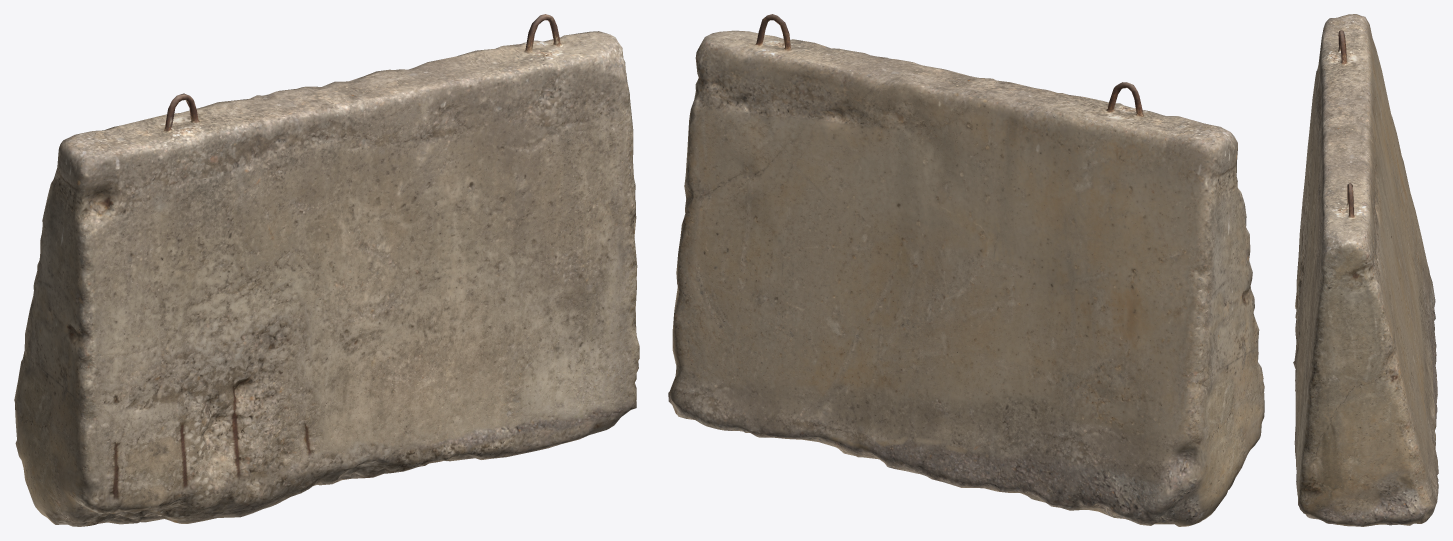
The model's file is concrete_road_barrier_02_Game.fbx.
3 renders of one model, left to right at view 1: azimuth 30°, elevation 25°; view 2: azimuth 150°, elevation 25°; view 3: azimuth 270°, elevation 25°, orthographic. The views are drawn at different scales.
Parts seen in each view (by area): view 1: concrete_road_barrier_02_Game; view 2: concrete_road_barrier_02_Game; view 3: concrete_road_barrier_02_Game.
Part boxes in pixels (x1=…): concrete_road_barrier_02_Game: x1=14, y1=14, x2=639, y2=526; concrete_road_barrier_02_Game: x1=668, y1=14, x2=1264, y2=526; concrete_road_barrier_02_Game: x1=1293, y1=14, x2=1438, y2=526.
Bounding box in the file's own units: 1.57 × 1.11 × 0.4421.
